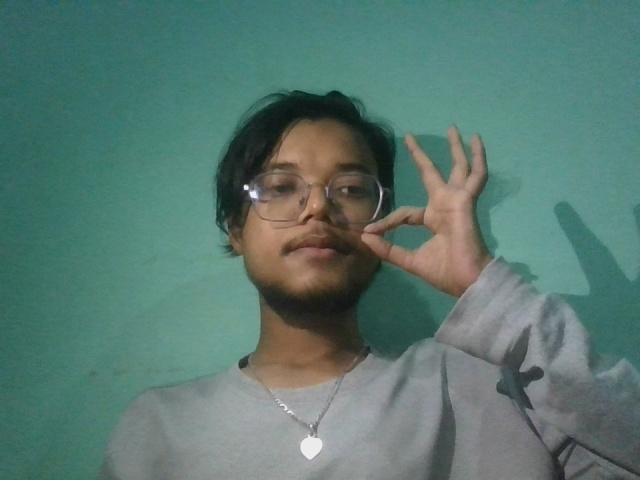Cat: (350, 115, 499, 330)
